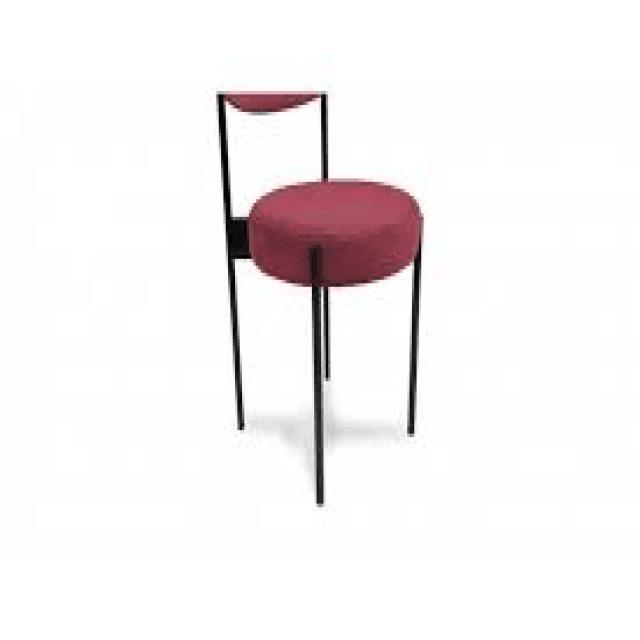chair: (213, 85, 429, 509), (221, 92, 424, 290)
